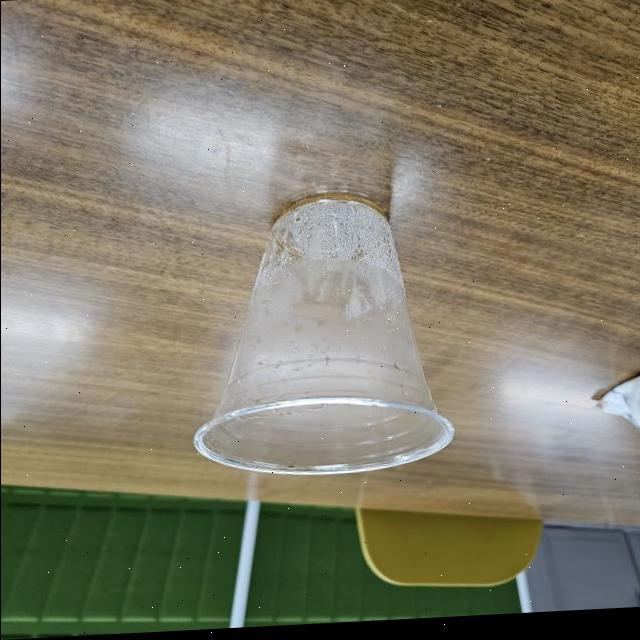cup: (190, 185, 454, 490)
